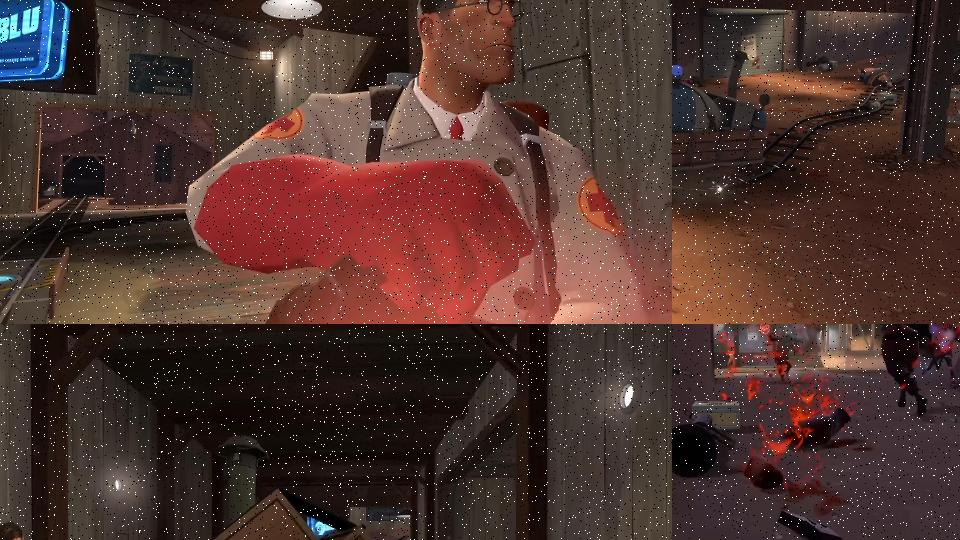Enemy: (164, 0, 670, 324), (878, 324, 931, 417), (927, 324, 960, 390), (769, 333, 804, 380), (726, 347, 737, 368)
